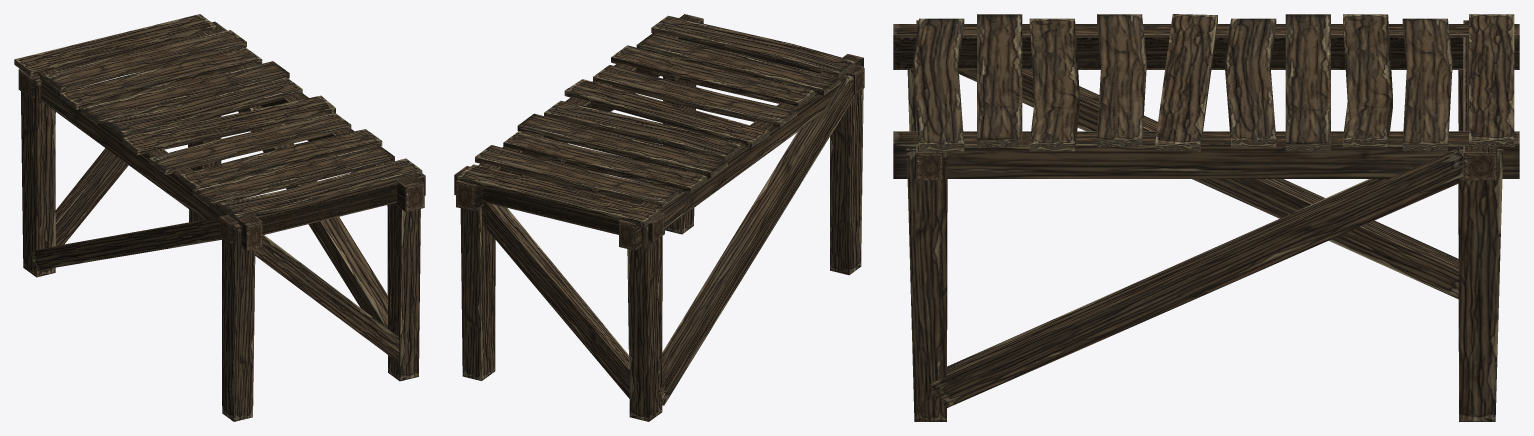
Rendered from Wood_4X4X8_01.fbx.
The picture shows the model from 3 angles, left to right: view 1: azimuth 30°, elevation 25°; view 2: azimuth 150°, elevation 25°; view 3: azimuth 270°, elevation 25°; orthographic projection. The views are drawn at different scales.
Parts seen in each view (by area): view 1: Wood_4X4X8_01; view 2: Wood_4X4X8_01; view 3: Wood_4X4X8_01.
Boxes of the visible parts, bbox=[...] form: Wood_4X4X8_01: bbox=[14, 14, 425, 421]; Wood_4X4X8_01: bbox=[454, 14, 864, 421]; Wood_4X4X8_01: bbox=[893, 14, 1519, 421].
Bounding box in the file's own units: 4 × 3.97 × 8.
